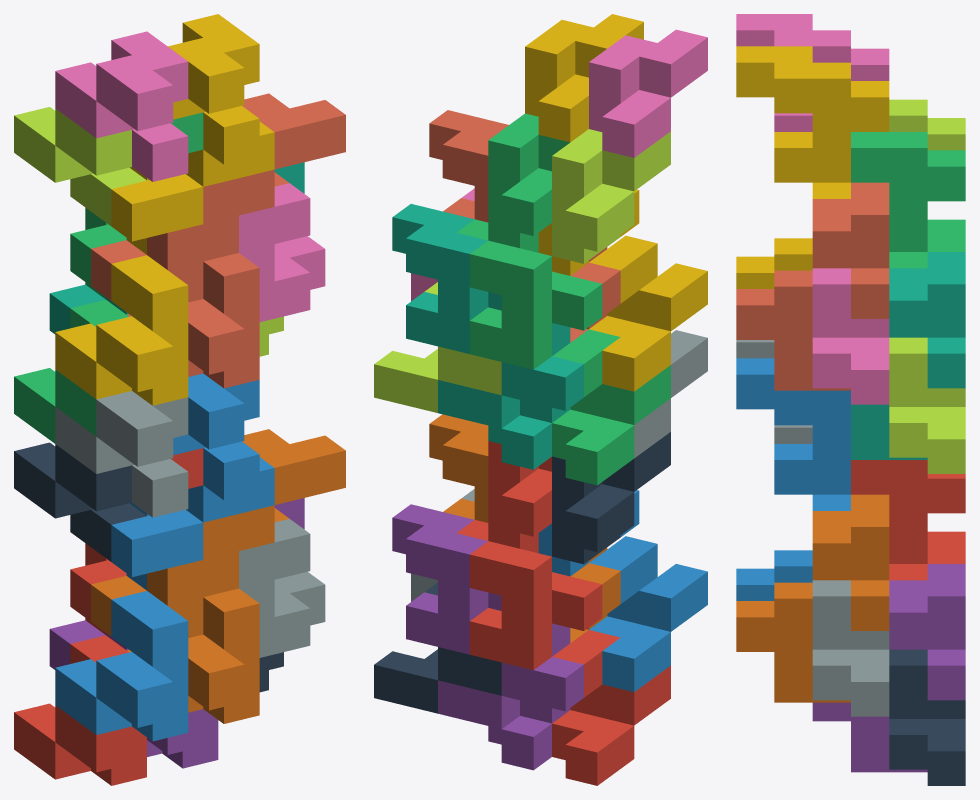
File: tiling.obj
3 renders of one model, left to right at view 1: azimuth 30°, elevation 25°; view 2: azimuth 150°, elevation 25°; view 3: azimuth 270°, elevation 25°, orthographic. The views are drawn at different scales.
Visible parts, largest first — view 1: copy_1_domain_2, copy_1_domain_4, copy_2_domain_4, copy_2_domain_2, copy_2_domain_8, copy_1_domain_1, copy_1_domain_6, copy_1_domain_8, copy_3_domain_8, copy_3_domain_6, copy_2_domain_1, copy_2_domain_3 (+15 smaller); view 2: copy_4_domain_1, copy_4_domain_3, copy_1_domain_4, copy_1_domain_2, copy_2_domain_4, copy_2_domain_3, copy_4_domain_7, copy_4_domain_5, copy_1_domain_3, copy_1_domain_1, copy_2_domain_8, copy_2_domain_1 (+15 smaller); view 3: copy_2_domain_8, copy_2_domain_6, copy_2_domain_7, copy_3_domain_6, copy_3_domain_8, copy_4_domain_6, copy_4_domain_8, copy_3_domain_5, copy_3_domain_7, copy_4_domain_5, copy_4_domain_7, copy_2_domain_5 (+13 smaller).
Part boxes in pixels (x1=…): copy_1_domain_2: x1=55, y1=591, x2=188, y2=741; copy_1_domain_4: x1=55, y1=255, x2=188, y2=405; copy_2_domain_4: x1=55, y1=31, x2=188, y2=181; copy_2_domain_2: x1=55, y1=391, x2=188, y2=517; copy_2_domain_8: x1=168, y1=14, x2=259, y2=164; copy_1_domain_1: x1=14, y1=635, x2=146, y2=785; copy_1_domain_6: x1=127, y1=588, x2=259, y2=723; copy_1_domain_8: x1=127, y1=253, x2=259, y2=388; copy_3_domain_8: x1=239, y1=183, x2=325, y2=322; copy_3_domain_6: x1=239, y1=519, x2=325, y2=657; copy_2_domain_1: x1=14, y1=442, x2=146, y2=561; copy_2_domain_3: x1=14, y1=107, x2=146, y2=225; copy_4_domain_1: x1=456, y1=520, x2=602, y2=669; copy_4_domain_3: x1=456, y1=219, x2=602, y2=369; copy_1_domain_4: x1=589, y1=235, x2=707, y2=391; copy_1_domain_2: x1=589, y1=536, x2=707, y2=691; copy_2_domain_4: x1=589, y1=29, x2=707, y2=157; copy_2_domain_3: x1=552, y1=129, x2=670, y2=263; copy_4_domain_7: x1=392, y1=204, x2=501, y2=353; copy_4_domain_5: x1=392, y1=504, x2=501, y2=654; copy_1_domain_3: x1=552, y1=329, x2=670, y2=485; copy_1_domain_1: x1=552, y1=630, x2=670, y2=785; copy_2_domain_8: x1=525, y1=14, x2=643, y2=142; copy_2_domain_1: x1=552, y1=432, x2=670, y2=564; copy_2_domain_8: x1=736, y1=46, x2=889, y2=182; copy_2_domain_6: x1=736, y1=358, x2=850, y2=494; copy_2_domain_7: x1=851, y1=132, x2=965, y2=251; copy_3_domain_6: x1=812, y1=580, x2=889, y2=716; copy_3_domain_8: x1=812, y1=268, x2=889, y2=404; copy_4_domain_6: x1=812, y1=494, x2=889, y2=630; copy_4_domain_8: x1=812, y1=182, x2=889, y2=318; copy_3_domain_5: x1=889, y1=649, x2=965, y2=785; copy_3_domain_7: x1=889, y1=337, x2=965, y2=473; copy_4_domain_5: x1=889, y1=564, x2=965, y2=700; copy_4_domain_7: x1=889, y1=252, x2=965, y2=388; copy_2_domain_5: x1=851, y1=460, x2=965, y2=563.
Size of the model in its own units: 7 by 20 by 6.
